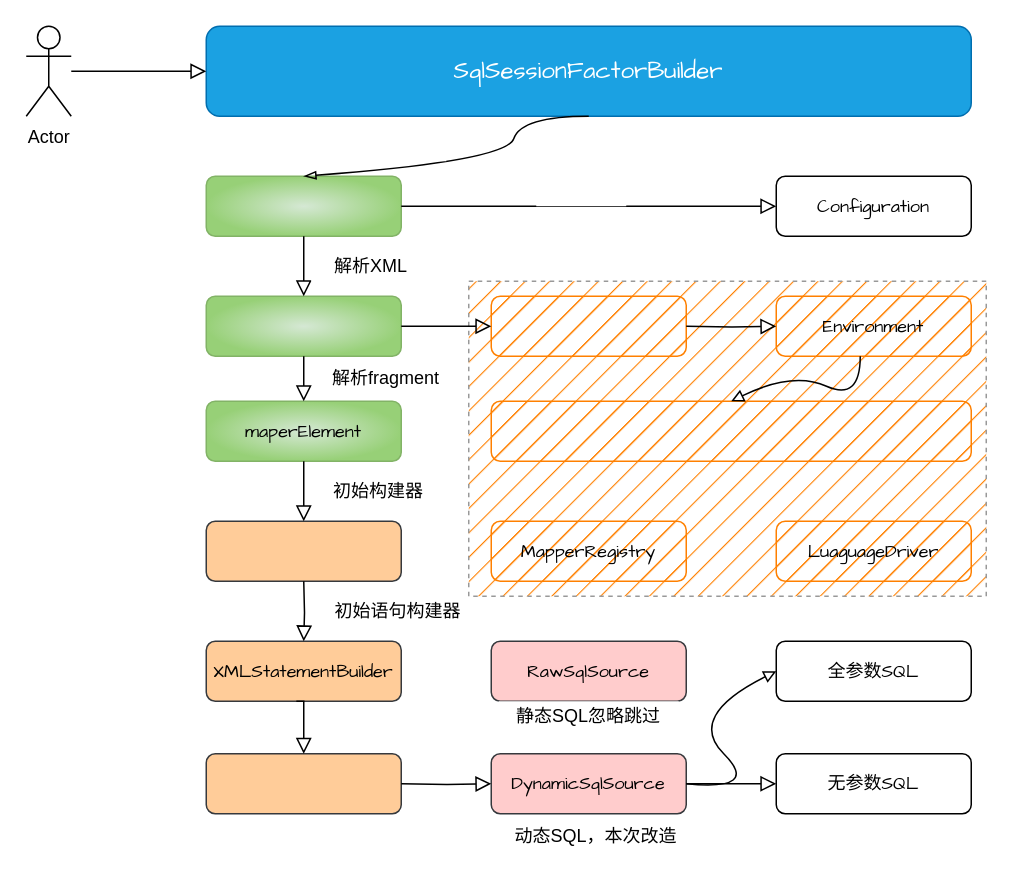
This 1013x878 diagram has some shape labels left out. Each missing label, with the centre of its shape:
boudlSql: the point at 446,761
init环境: the point at 581,191
IO读取: the point at 416,145
parse: the point at 303,325
XMLConfigBuilder: the point at 303,205
XMLMapperBuilder: the point at 303,550
XMLScriptBuilder: the point at 303,783
事务工厂(TransitionFactor) 数据源(Druid): the point at 730,430
解析连接池: the point at 588,325
